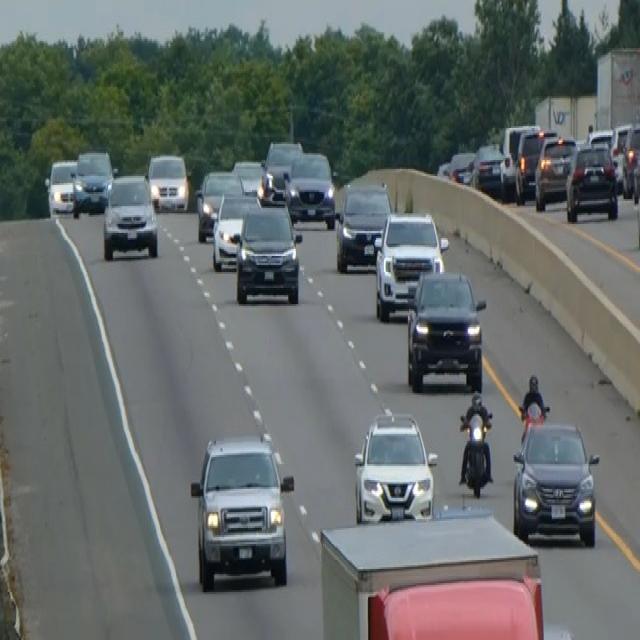car: (511, 418, 599, 548), (405, 267, 486, 393), (352, 407, 437, 523), (373, 208, 448, 322), (234, 201, 302, 304), (335, 180, 391, 272), (102, 170, 158, 260), (564, 140, 618, 222), (211, 188, 261, 272), (285, 150, 336, 228), (195, 167, 244, 240), (514, 126, 557, 204), (534, 133, 577, 210), (499, 121, 539, 199), (71, 148, 113, 215), (146, 151, 189, 212), (262, 137, 302, 197), (44, 157, 77, 215), (471, 140, 504, 194), (621, 121, 639, 199), (257, 164, 289, 206), (231, 157, 264, 196), (448, 149, 474, 185)
jeep: (188, 428, 295, 592)
motorcycle: (457, 407, 494, 498)
